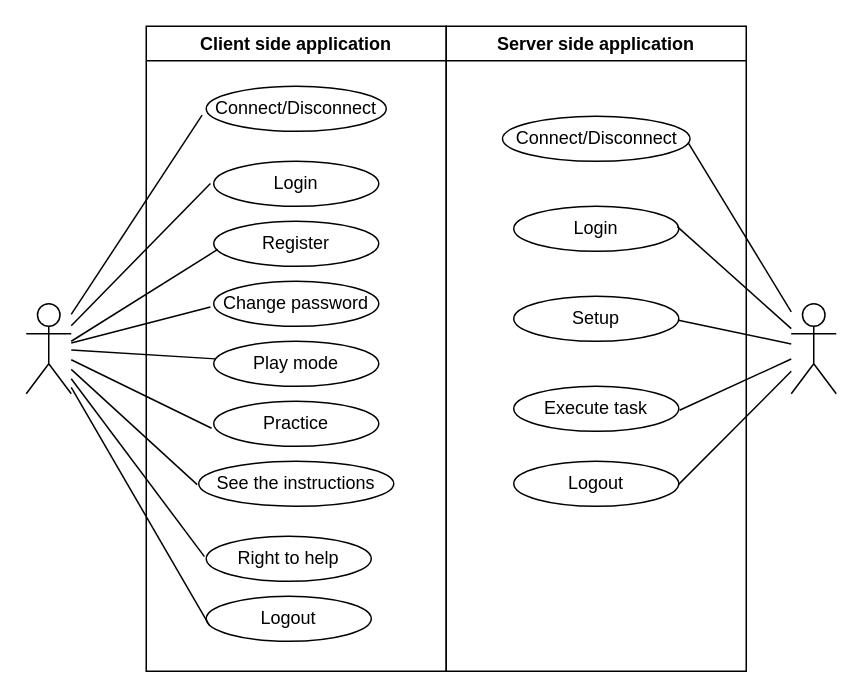
This 866x698 diagram has some shape labels left out. The shapes that lost their labels are listed below. From the top down, each one's centre as x and y in pixels, then its label:
At point 48,348: "Client".
At point 813,348: "Server".
